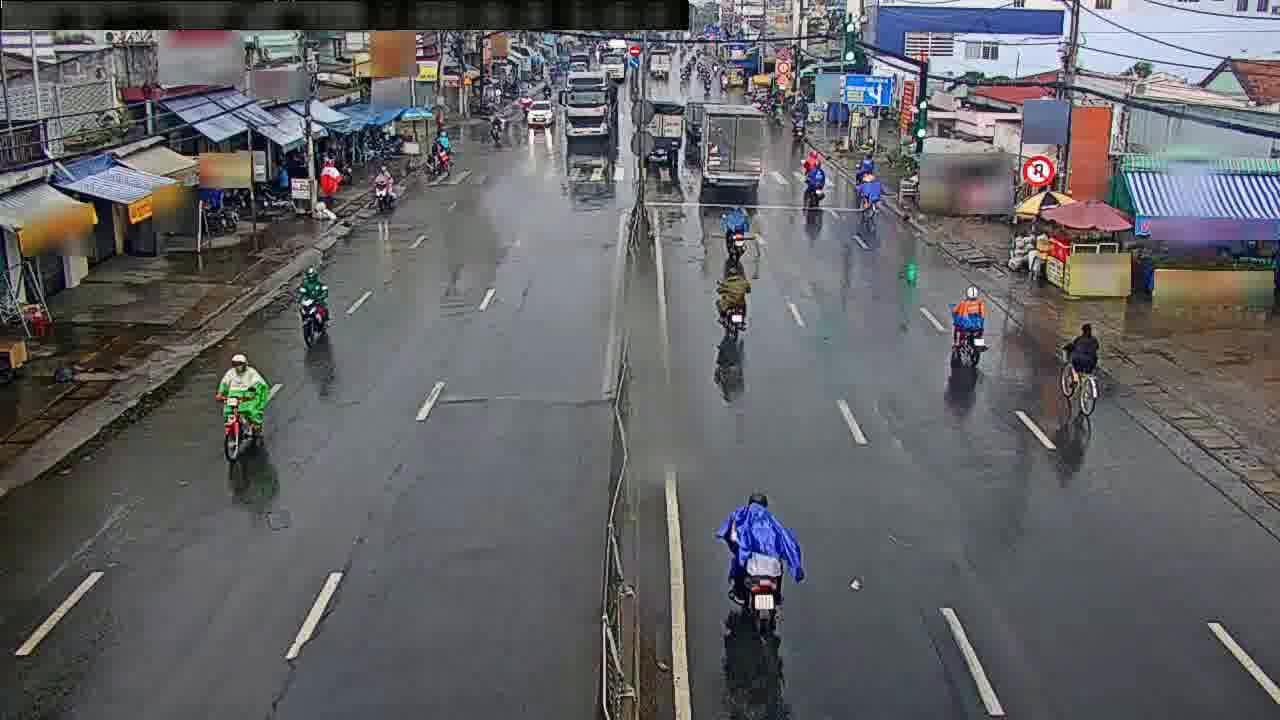8: (706, 104, 761, 187), (561, 66, 615, 138), (641, 102, 683, 162)
container: (525, 100, 557, 128)
motorbike: (713, 489, 799, 639), (215, 353, 274, 459), (1060, 321, 1105, 406), (944, 284, 988, 365), (292, 264, 333, 344), (713, 264, 752, 341), (720, 200, 747, 253), (801, 157, 826, 206), (855, 168, 878, 218), (370, 168, 395, 213), (428, 131, 453, 174), (853, 144, 874, 185), (486, 108, 505, 140), (787, 108, 804, 138)
